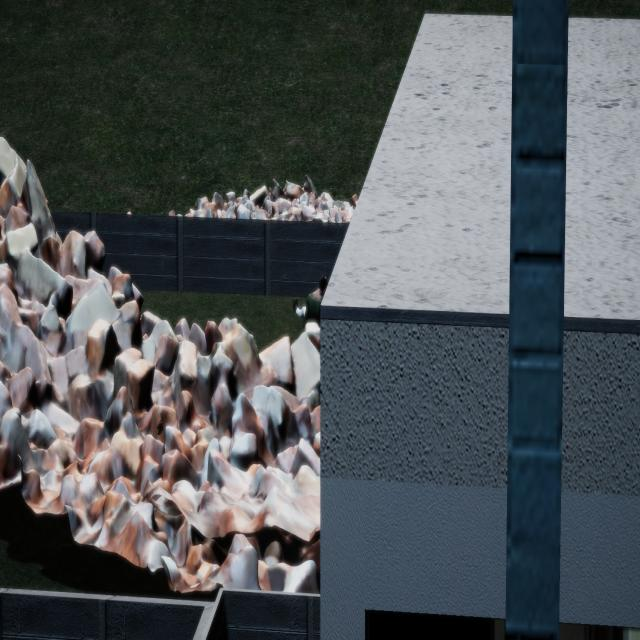Human: (288, 276, 328, 336)
